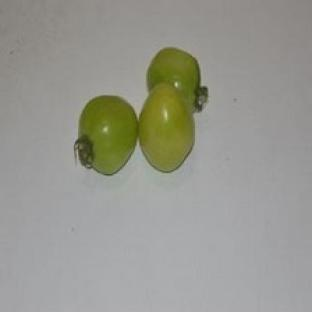Tomato: (76, 95, 137, 175), (140, 83, 194, 172), (147, 48, 207, 112)
